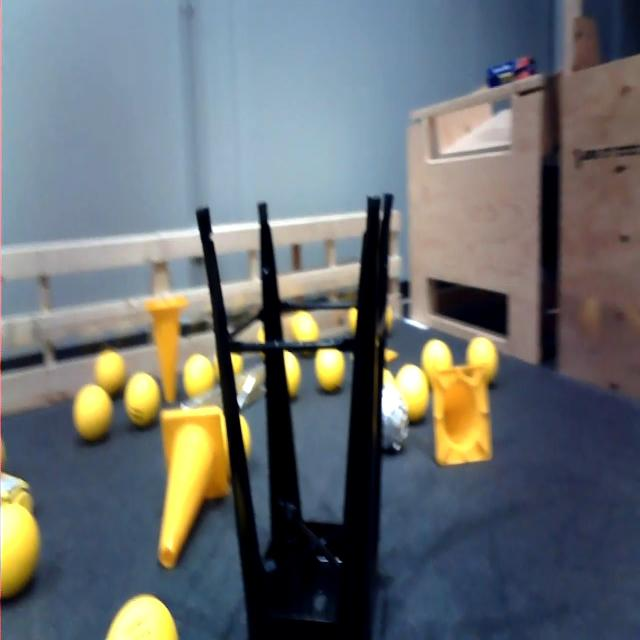fuel: (0, 487, 49, 611), (96, 583, 193, 640), (125, 353, 161, 429), (393, 358, 432, 427), (311, 339, 351, 405), (76, 386, 115, 446), (181, 348, 219, 404), (464, 331, 503, 384), (93, 343, 128, 401), (423, 336, 459, 380), (289, 307, 321, 355)
